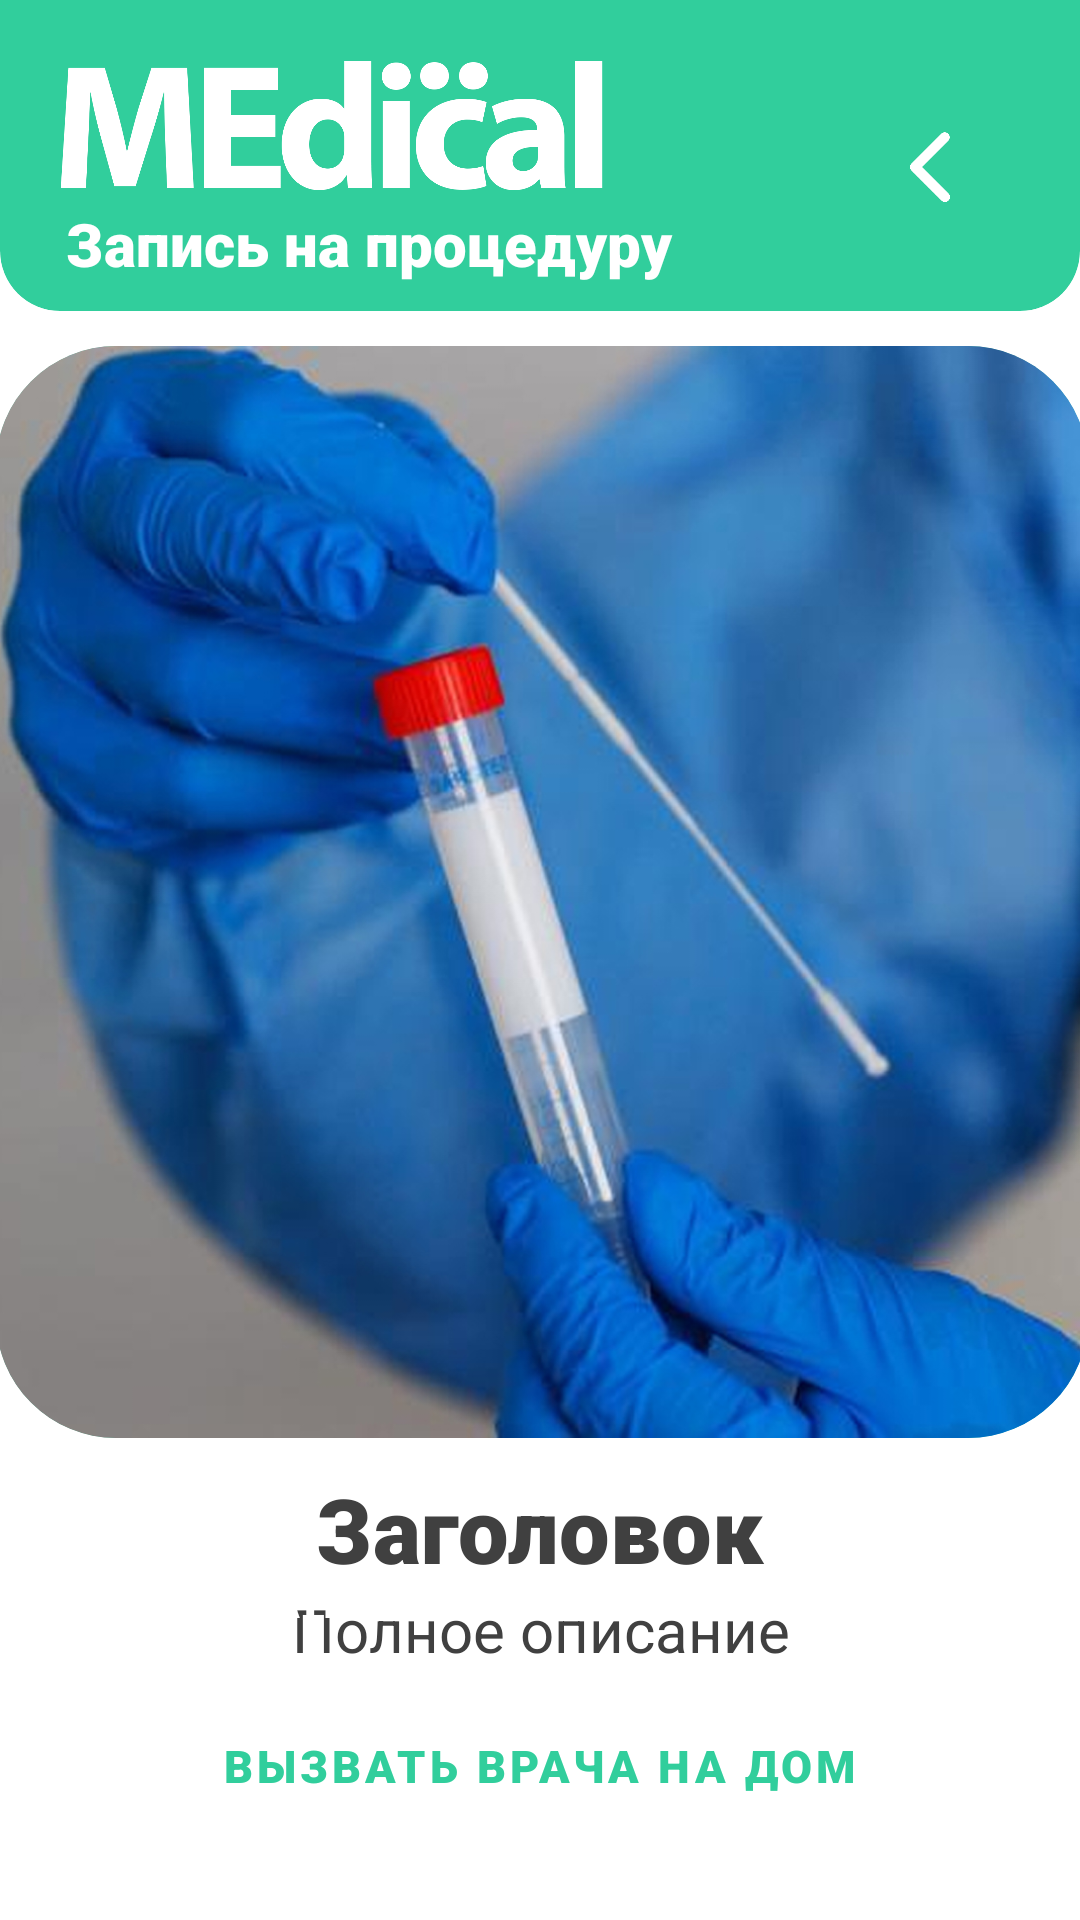

Named icons in this screenshot (1080w x 1920h) and their bounding boxes, bbox=[x1, y1, x2, y2]:
back: bbox=[910, 132, 950, 202]
